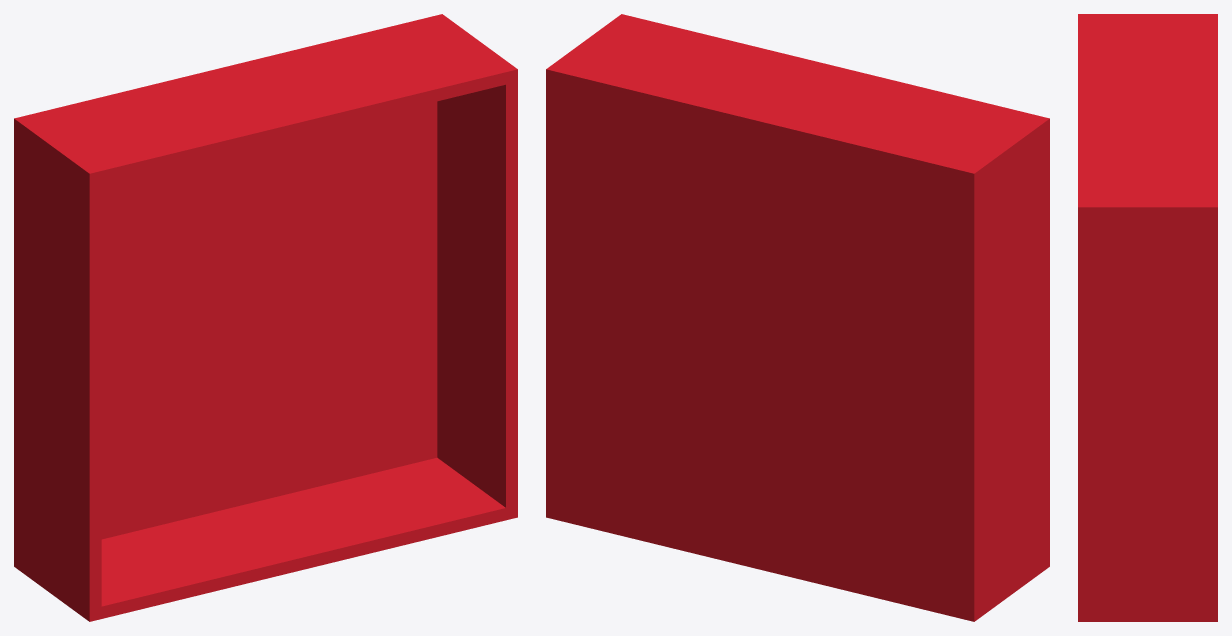
Rendered from tinker.obj.
3 views of the same model, side by side, from view 1: azimuth 30°, elevation 25°; view 2: azimuth 150°, elevation 25°; view 3: azimuth 270°, elevation 25° (orthographic). The views are drawn at different scales.
Visible parts, largest first — view 1: obj_0; view 2: obj_0; view 3: obj_0.
Boxes of the visible parts, x1,y1,x2,y2 form: obj_0: [14, 14, 517, 621]; obj_0: [546, 14, 1049, 621]; obj_0: [1078, 14, 1217, 621].
Bounding box in the file's own units: 180 × 180 × 55.
